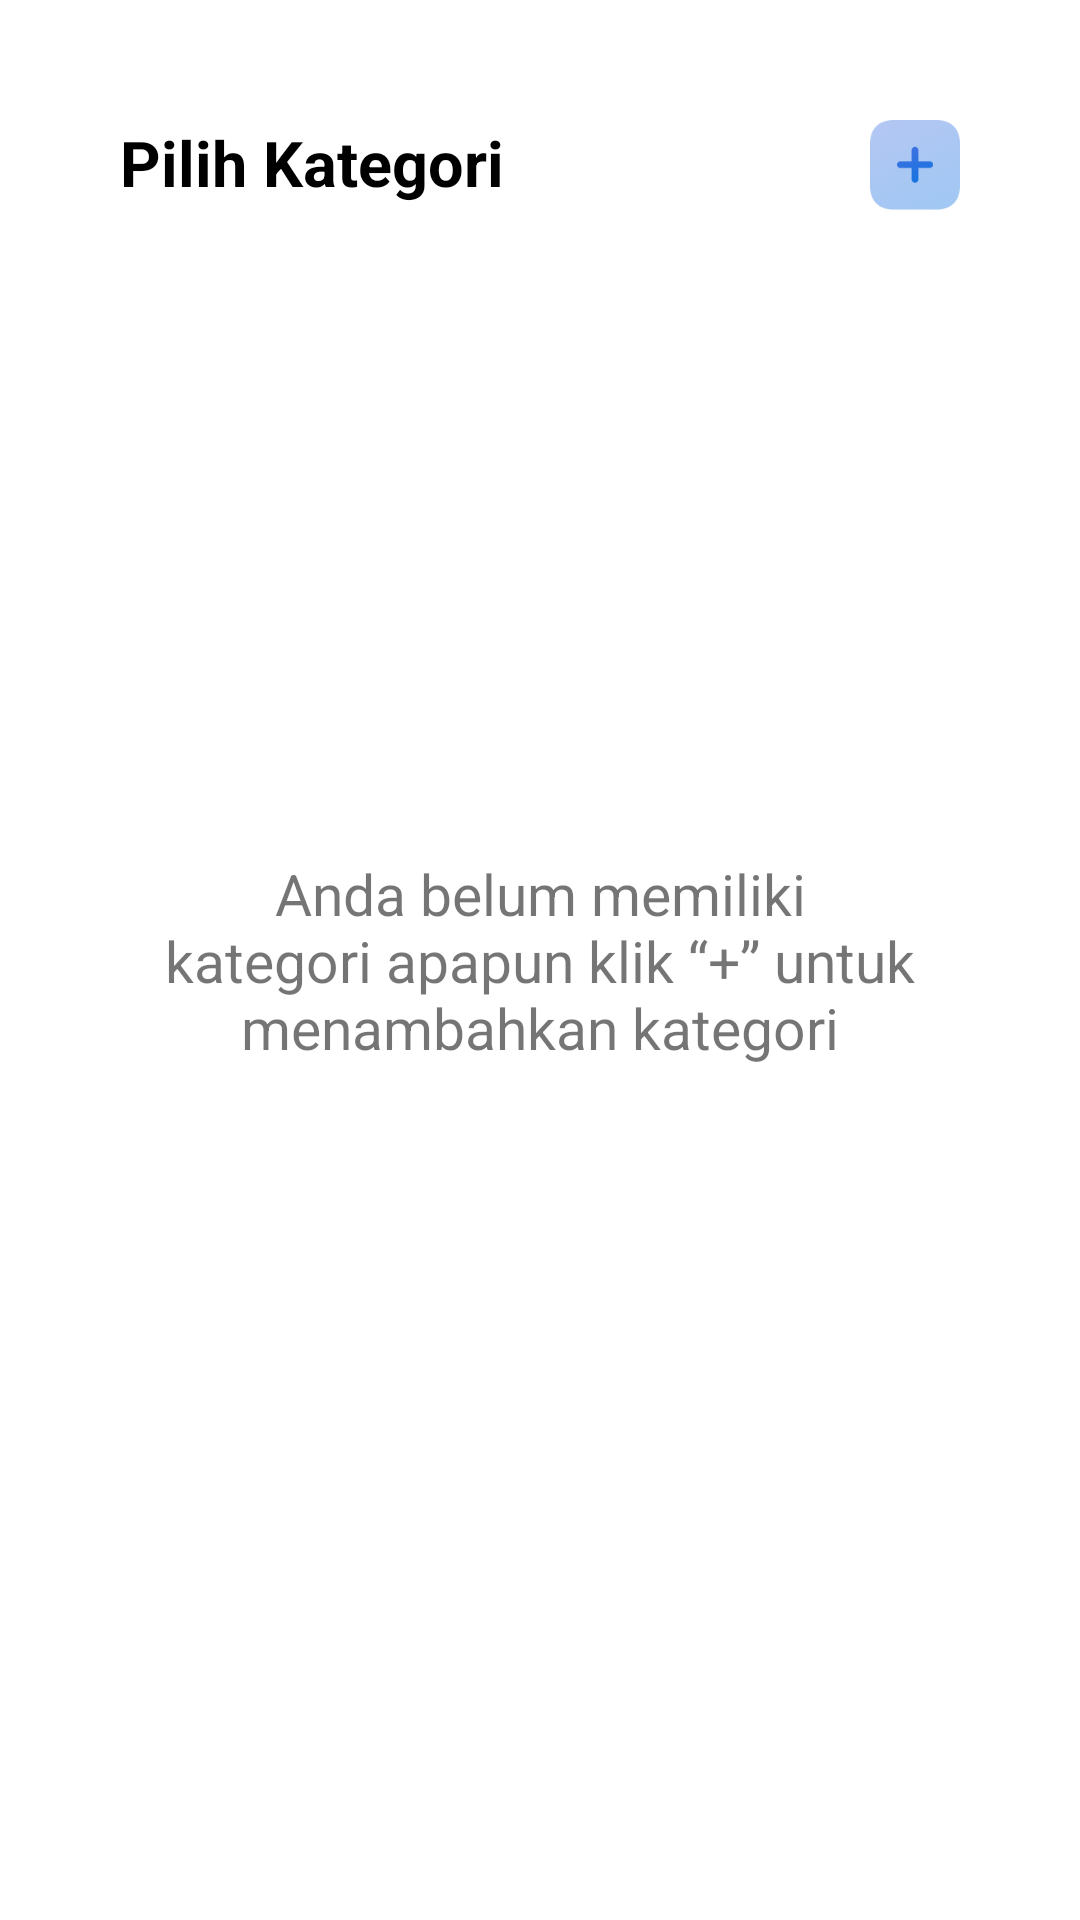

Icons on this 1080px×1920px Android screen, each with the point to tap as [x,y]:
plus: [915,165]
